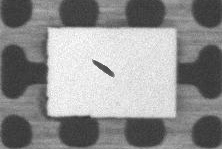DIE_INK: (89, 57, 115, 78)
